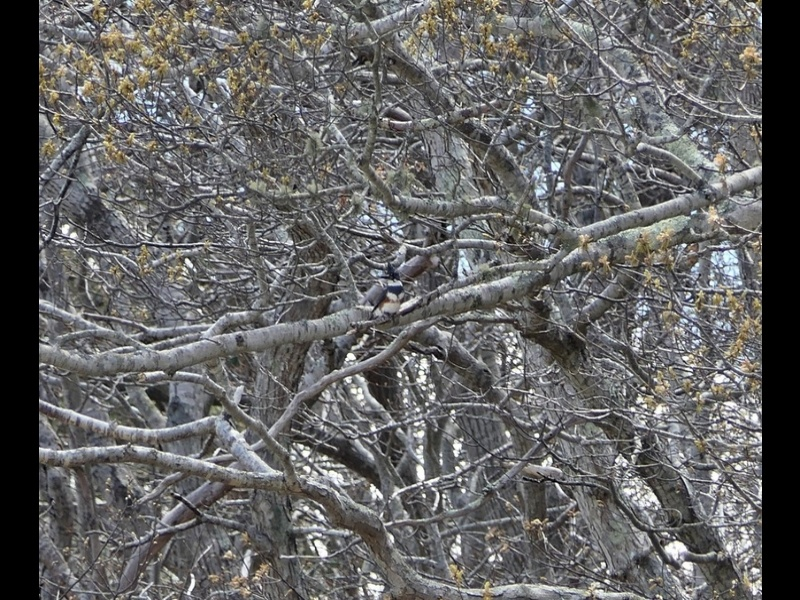kingfisher: (371, 265, 407, 320)
